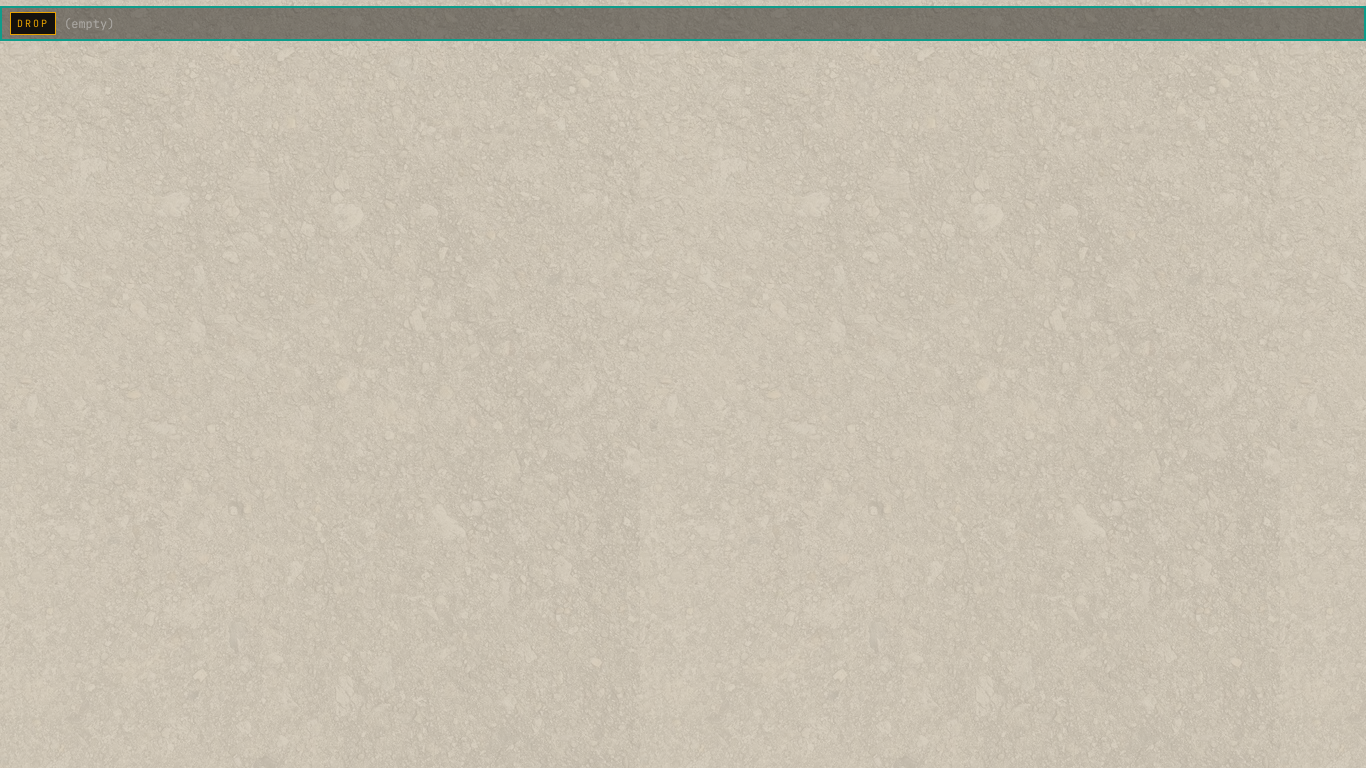
Test case: DropSlot › expands when the compact bar is clicked and reveals the editor
This screenshot has width=1366, height=768.
Click the button with test id "drop-slot". click: (33, 24)
box: left=0, top=6, right=1365, bottom=41
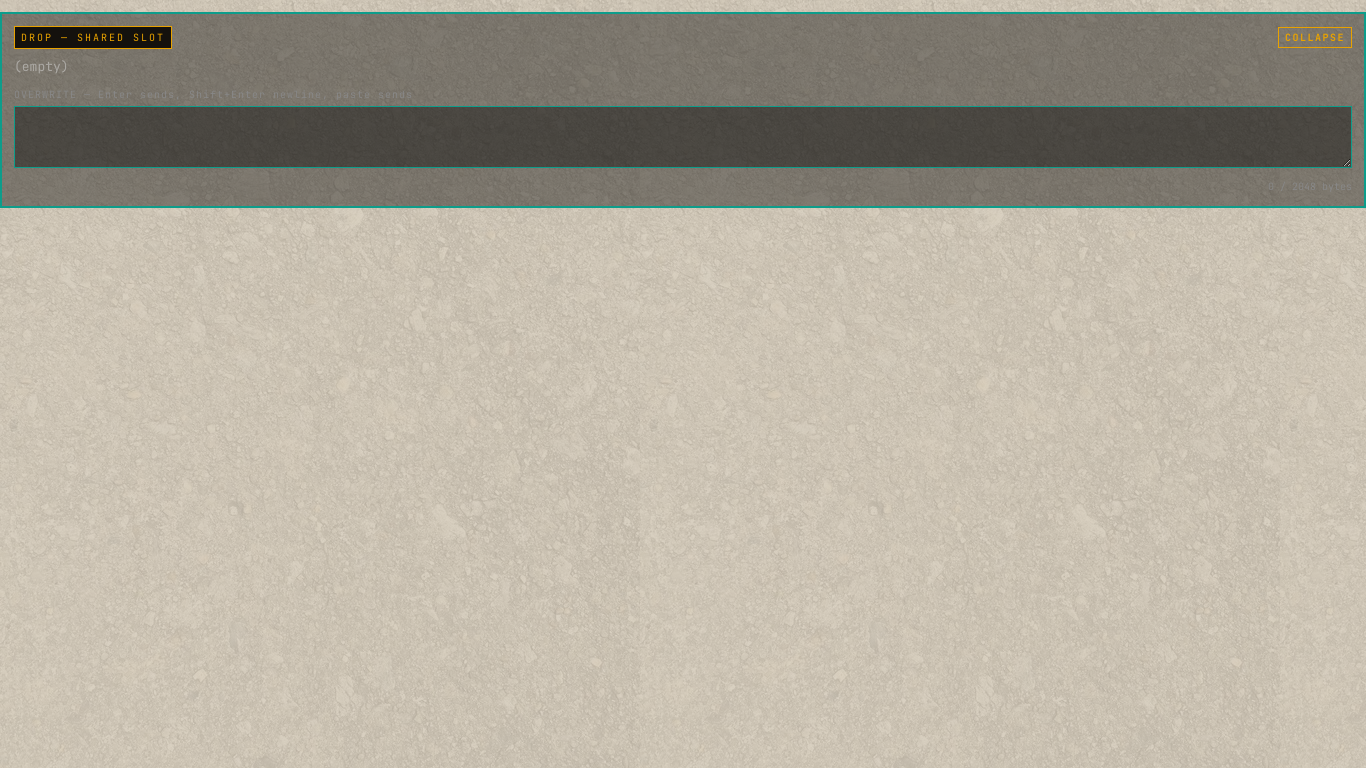
Now the text box with test id "drop-slot-input" is shown, box left=14, top=106, right=1352, bottom=168
Now the button with test id "drop-slot-collapse" is shown, box left=1278, top=27, right=1352, bottom=48
